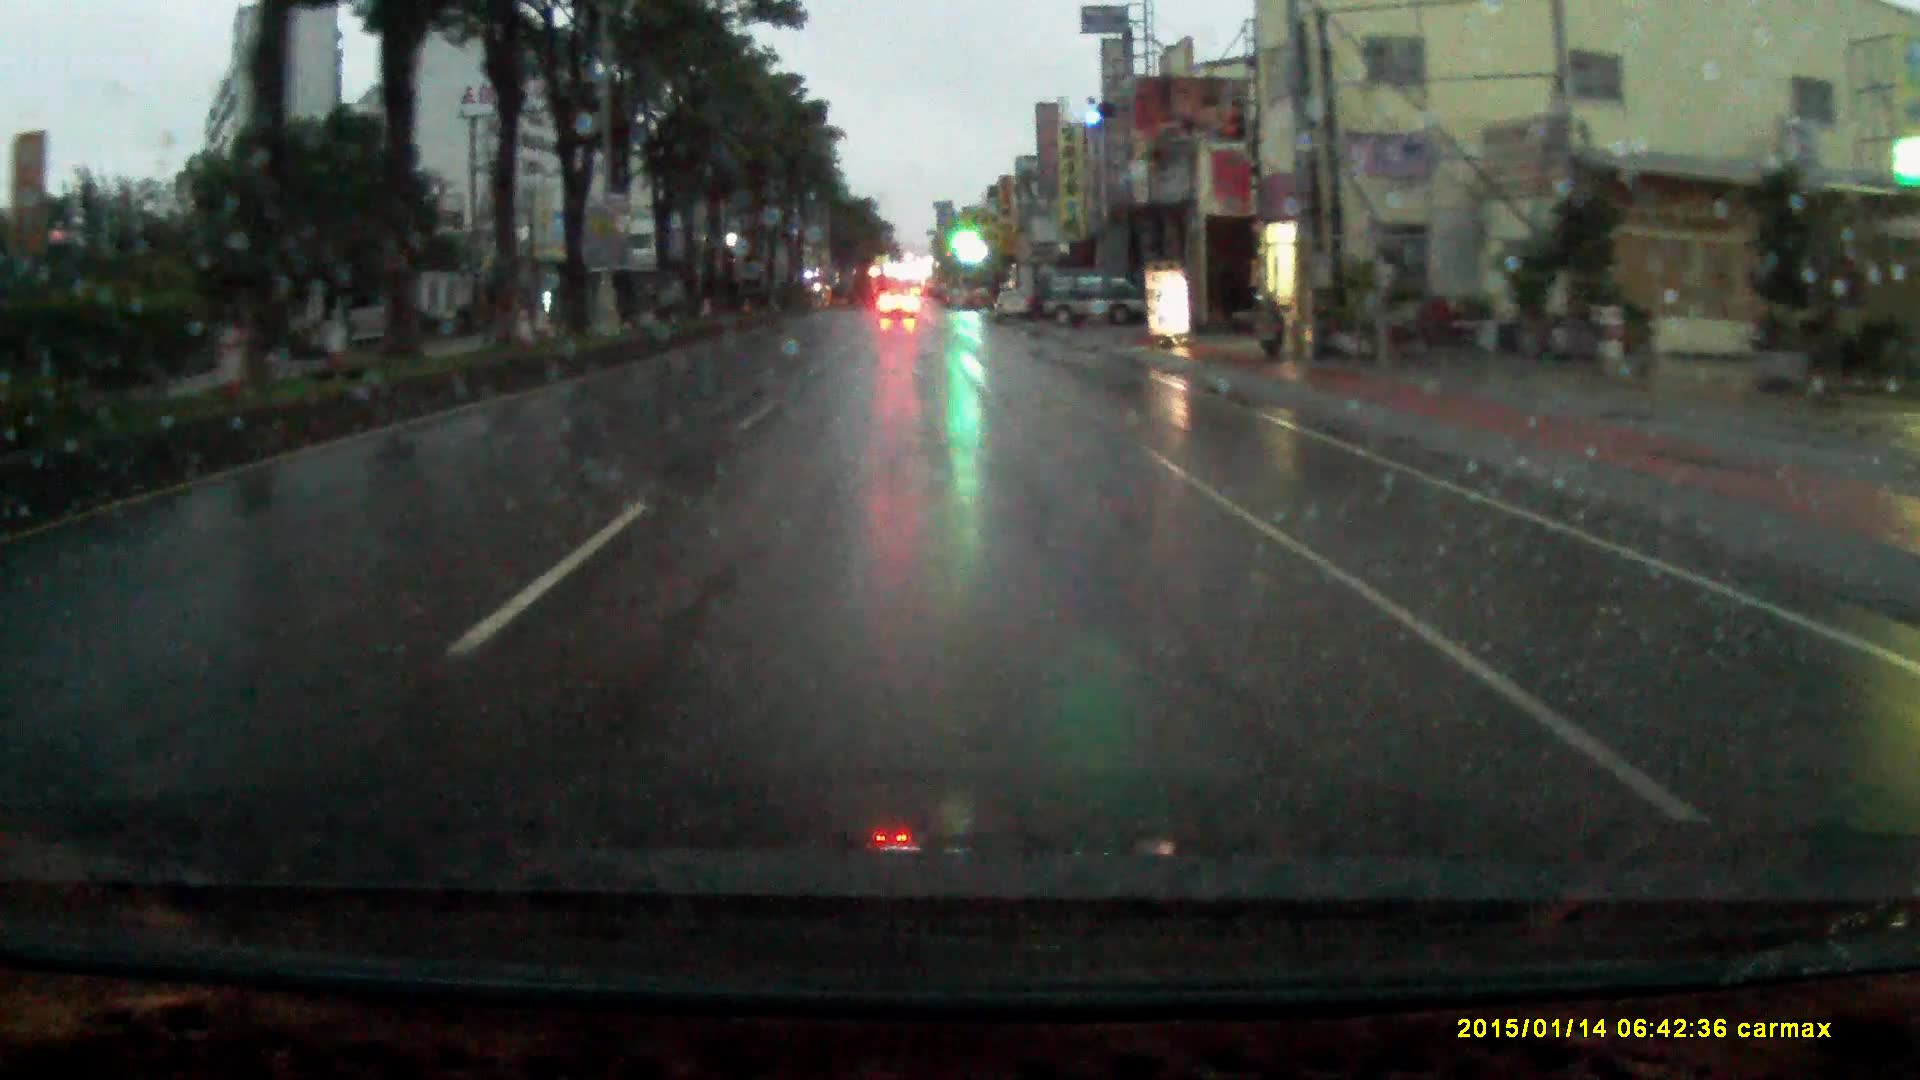vehicle: (1043, 269, 1149, 328), (994, 289, 1035, 324), (878, 290, 922, 323)
